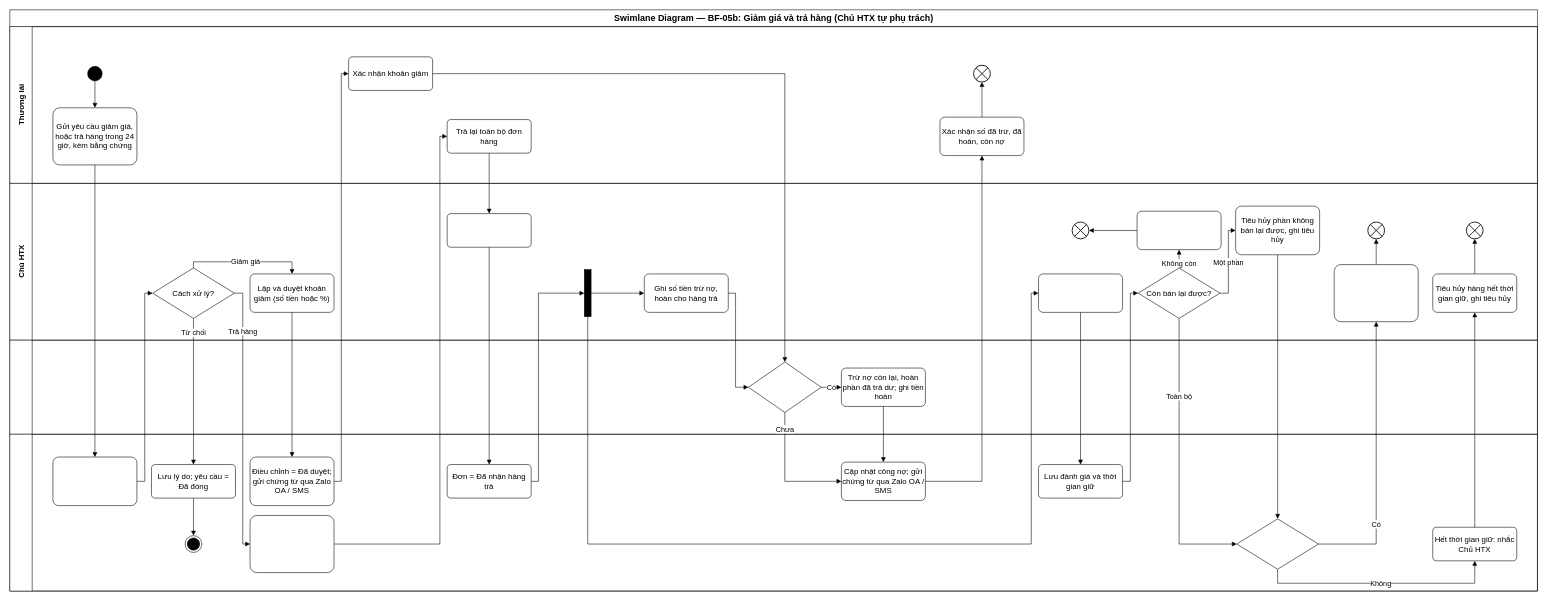
Some shapes in this 1547 by 601 pixel diagram are drawn without their labels. The box of each missing label's shape, as (x1, y1, x2, y2) in pixels:
Có đơn mới trong thời gian giữ?: (1236, 518, 1319, 569)
Ghi hàng trả thực nhận, nơi giữ tạm: (447, 213, 531, 247)
Gắn vào đơn mới (không thu hoạch); cân lại tại cảng bằng QR cũ: (1334, 264, 1418, 322)
Hệ thống OMTS: (9, 434, 1537, 591)
Kế toán: (9, 340, 1537, 434)
Lưu yêu cầu; trạng thái = Chờ quyết định; báo Chủ HTX: (52, 456, 137, 506)
Thương lái đã trả tiền?: (748, 361, 821, 412)
Tiêu hủy toàn bộ hàng trả, ghi tiêu hủy: (1137, 211, 1221, 250)
Đánh giá phần bán lại được, đặt thời gian giữ: (1038, 273, 1123, 312)
Đơn = Đã chấp nhận trả; báo thương lái qua Zalo OA / email / SMS: (249, 515, 334, 573)
